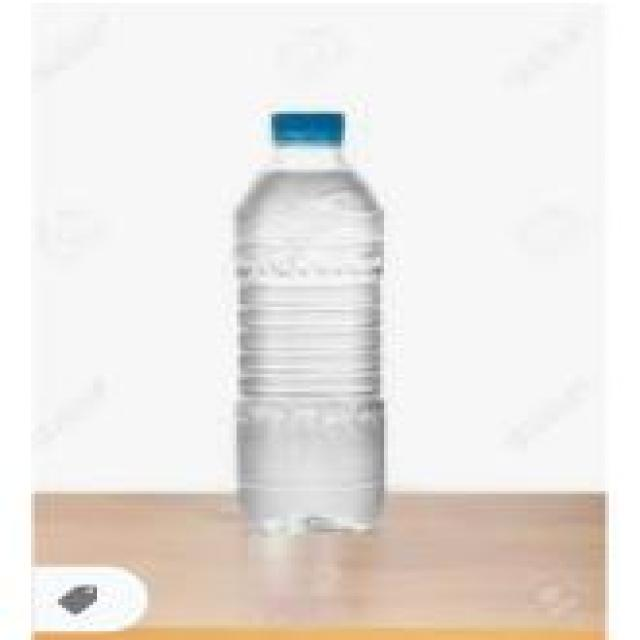bottle: (211, 102, 417, 552)
